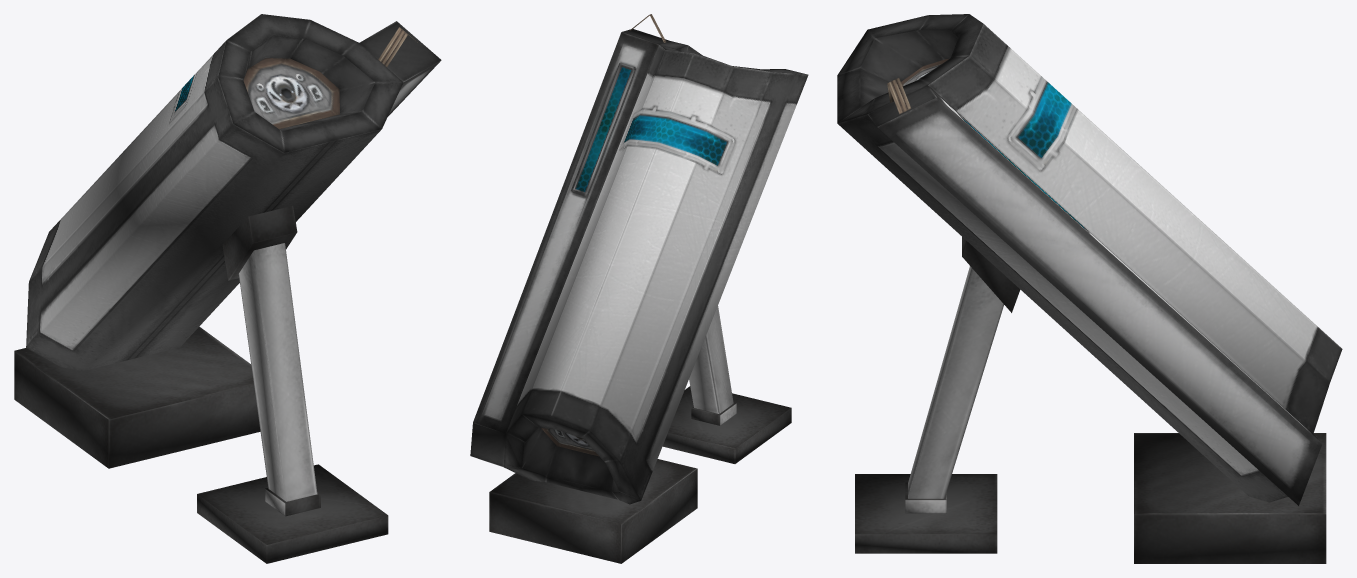
File: developer_normal.obj
3 renders of one model, left to right at view 1: azimuth 30°, elevation 25°; view 2: azimuth 150°, elevation 25°; view 3: azimuth 270°, elevation 25°, orthographic. The views are drawn at different scales.
Parts seen in each view (by area): view 1: develop; view 2: develop; view 3: develop.
Boxes of the visible parts, left/top/right/bottom form: develop: left=14, top=14, right=441, bottom=563; develop: left=470, top=14, right=808, bottom=563; develop: left=837, top=14, right=1342, bottom=563.
Bounding box in the file's own units: 2.6 × 5.72 × 5.25.
